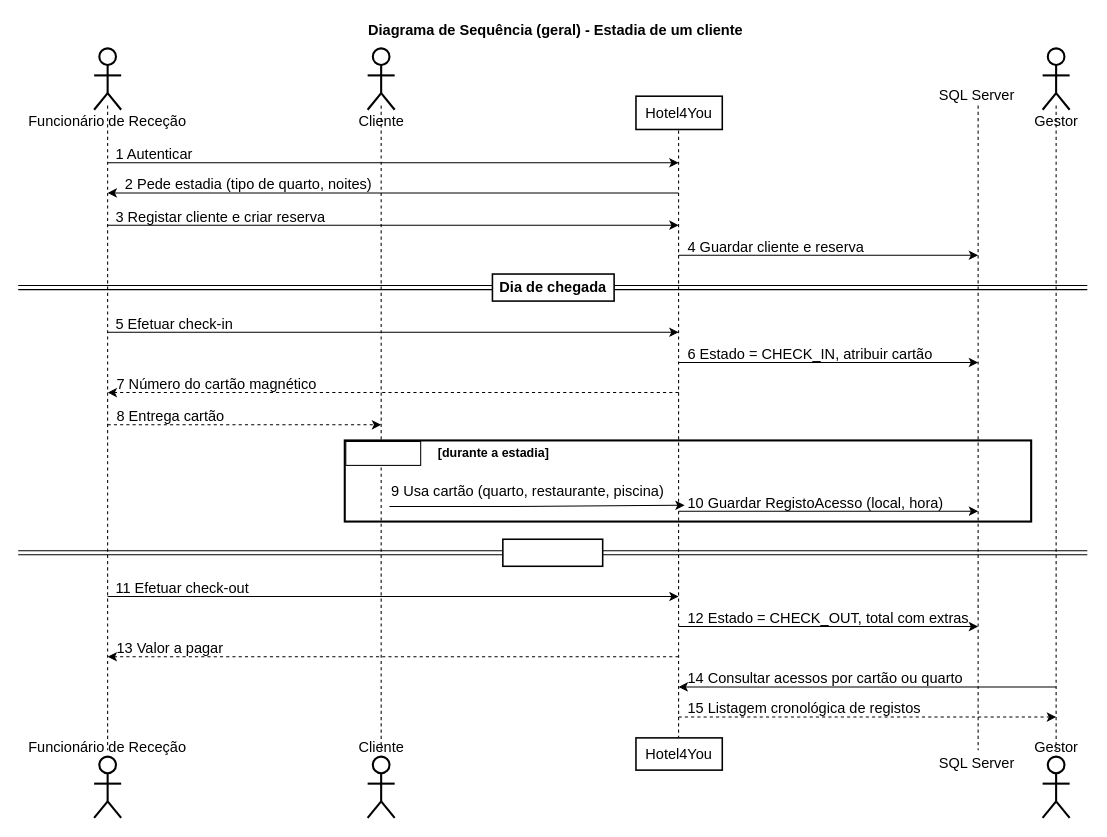
This 1107x837 diagram has some shape labels left out. Here are the shapes that lost their labels. From the top down, the centre of each, then its label:
At (x=383, y=452): "loop".
At (x=552, y=552): "Dia de saída".
